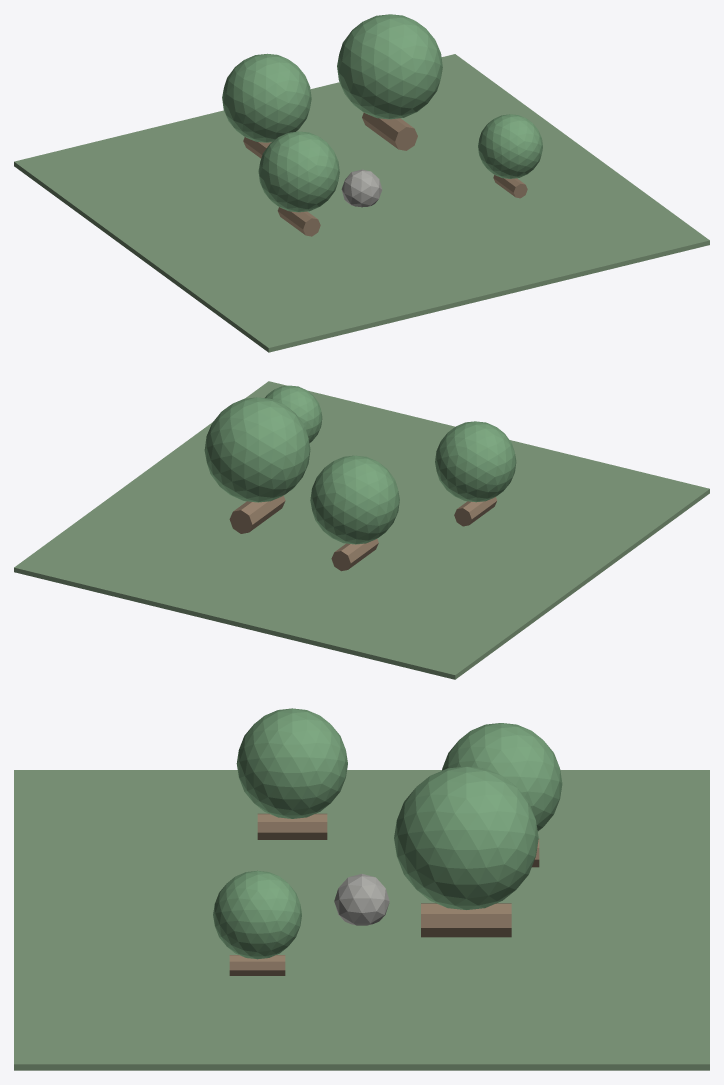
The model's file is nature.glb.
3 views of the same model, one above another, from view 1: azimuth 30°, elevation 25°; view 2: azimuth 150°, elevation 25°; view 3: azimuth 270°, elevation 25° (orthographic). The views are drawn at different scales.
Parts seen in each view (by area): view 1: part_0, part_4, part_8, part_2, part_6, part_9, part_3, part_1; view 2: part_0, part_4, part_8, part_2, part_6, part_3, part_7, part_1; view 3: part_0, part_4, part_2, part_6, part_8, part_3, part_9, part_1, part_5.
Part boxes in pixels (box(x1,y1,x2,y2)): part_0: box(14, 54, 709, 352); part_4: box(337, 14, 442, 119); part_8: box(222, 53, 311, 142); part_2: box(258, 131, 339, 212); part_6: box(478, 114, 542, 178); part_9: box(341, 169, 382, 207); part_3: box(362, 112, 417, 150); part_1: box(277, 207, 320, 236); part_0: box(14, 381, 709, 679); part_4: box(204, 397, 310, 502); part_8: box(310, 455, 399, 544); part_2: box(435, 421, 516, 502); part_6: box(265, 385, 322, 443); part_3: box(229, 495, 285, 533); part_7: box(331, 539, 378, 571); part_1: box(454, 497, 497, 526); part_0: box(14, 770, 709, 1070); part_4: box(394, 766, 538, 909); part_2: box(236, 708, 347, 818); part_6: box(213, 870, 301, 959); part_8: box(442, 723, 562, 831); part_3: box(421, 903, 511, 937); part_9: box(334, 874, 389, 925); part_1: box(257, 813, 327, 839); part_5: box(229, 955, 285, 975).
Bounding box in the file's own units: 20 × 6.28 × 20.
